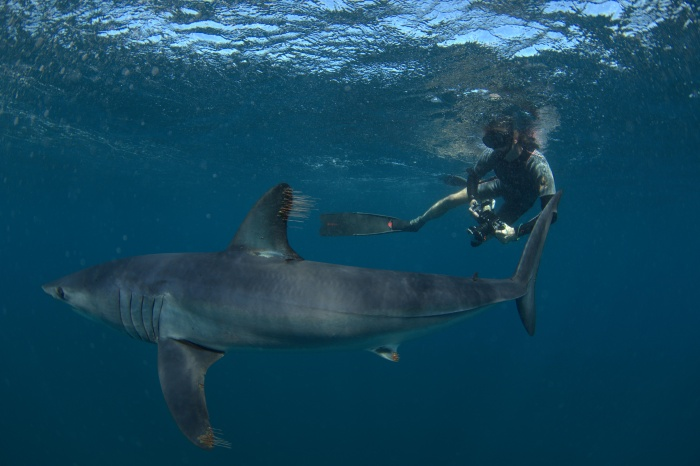Mako: (20, 179, 577, 459)
